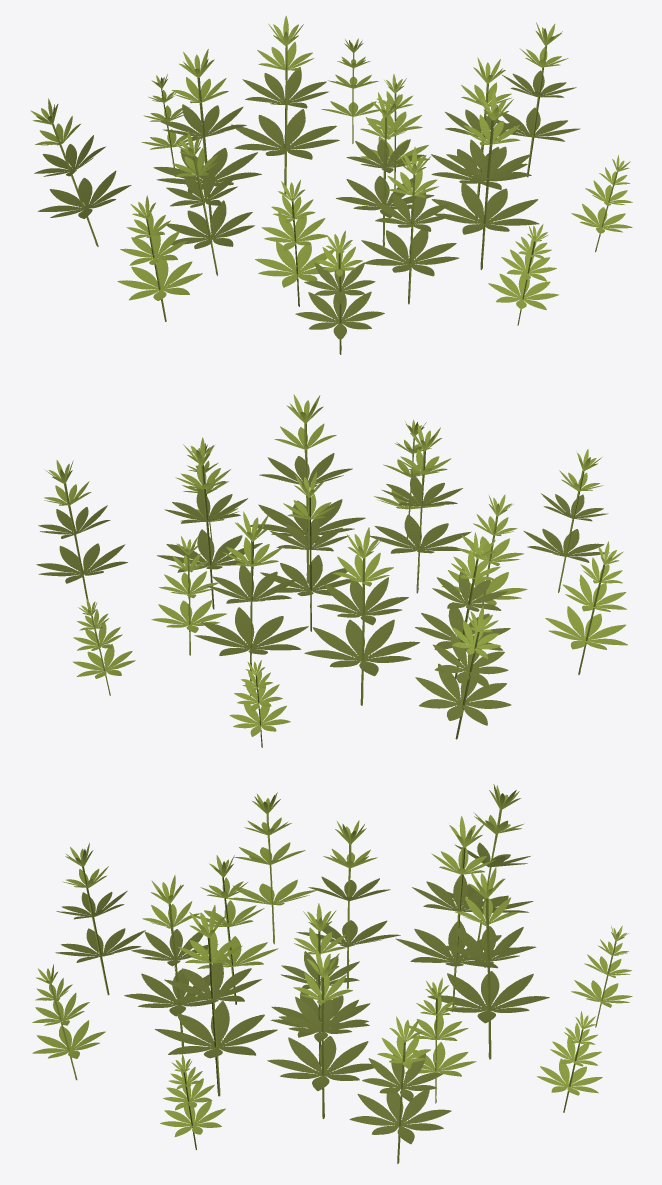
The model's file is Woodruff_Cluster_Leaves_only.fbx.
3 views of the same model, one above another, from view 1: azimuth 30°, elevation 25°; view 2: azimuth 150°, elevation 25°; view 3: azimuth 270°, elevation 25° (orthographic). The views are drawn at different scales.
Visible parts, largest first — view 1: Woodruff_Cluster_Leaves_only; view 2: Woodruff_Cluster_Leaves_only; view 3: Woodruff_Cluster_Leaves_only.
Part boxes in pixels (x1=…): Woodruff_Cluster_Leaves_only: x1=30, y1=15, x2=632, y2=354; Woodruff_Cluster_Leaves_only: x1=36, y1=394, x2=627, y2=747; Woodruff_Cluster_Leaves_only: x1=32, y1=784, x2=632, y2=1163.
Size of the model in its own units: 137 by 43.65 by 129.
Materials: 1 (1 with a texture image).
